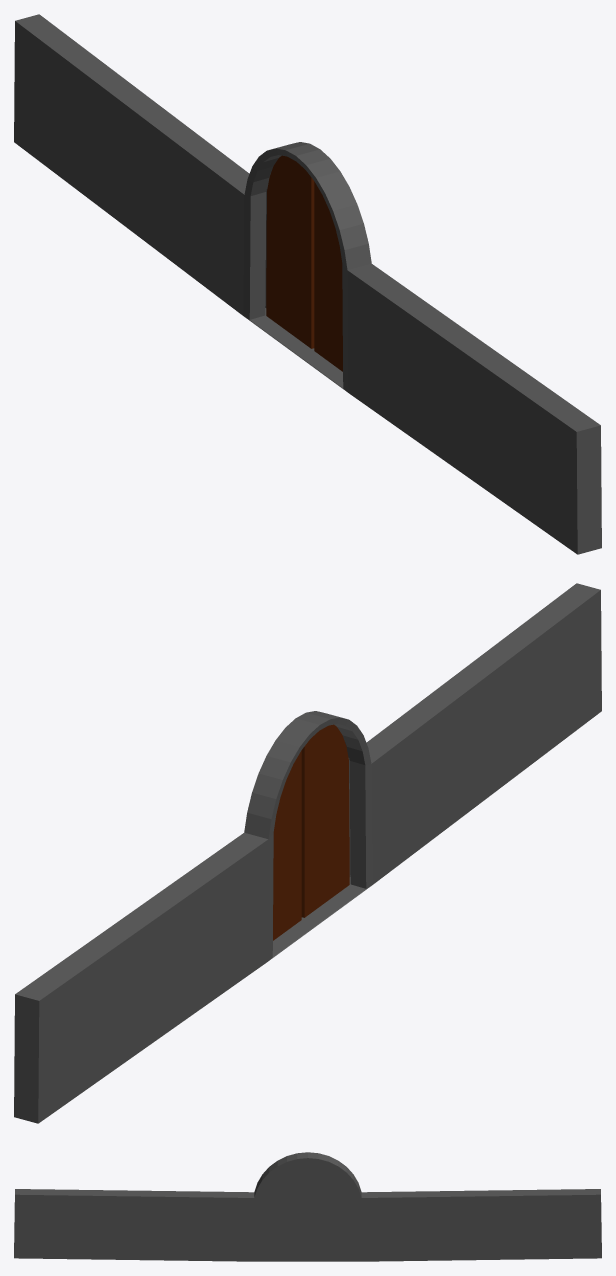
Rendered from portão.fbx.
3 renders of one model, top to bottom at view 1: azimuth 30°, elevation 25°; view 2: azimuth 150°, elevation 25°; view 3: azimuth 270°, elevation 25°, orthographic. The views are drawn at different scales.
Visible parts, largest first — view 1: Circle.001, Circle; view 2: Circle.001, Circle; view 3: Circle.001.
Part boxes in pixels (x1,y1,x2,y2): Circle.001: (14, 14, 601, 554); Circle: (266, 155, 342, 371); Circle.001: (14, 583, 601, 1123); Circle: (273, 724, 349, 940); Circle.001: (14, 1152, 601, 1261).
Bounding box in the file's own units: 30.23 × 236 × 1207.
